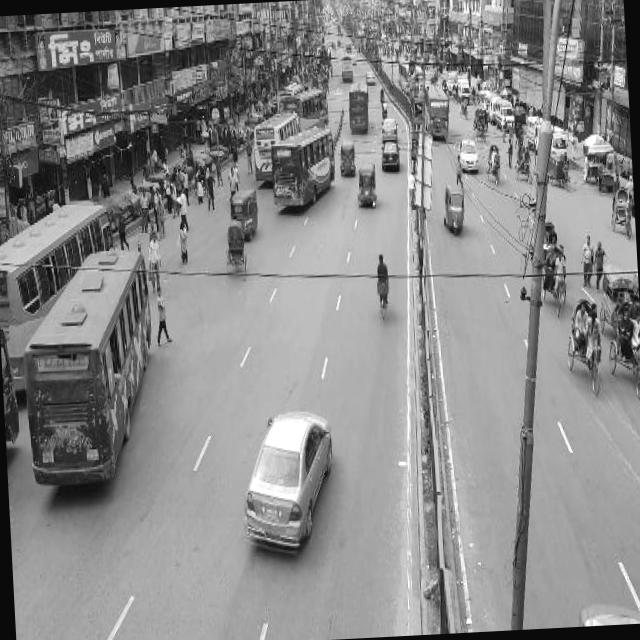bus: (16, 241, 160, 492), (0, 191, 123, 395), (268, 122, 338, 208), (248, 104, 302, 182), (278, 90, 333, 134), (422, 80, 451, 140), (346, 79, 370, 132), (494, 94, 514, 131), (338, 50, 354, 80)
car: (456, 134, 478, 176), (380, 140, 400, 172), (378, 115, 396, 138)
motorcycle: (562, 292, 605, 398), (604, 298, 640, 406), (537, 242, 566, 319), (228, 186, 262, 240), (222, 216, 248, 277), (439, 181, 467, 237), (608, 183, 634, 242), (354, 160, 377, 208), (512, 140, 531, 185), (338, 135, 358, 177), (484, 142, 502, 186)
